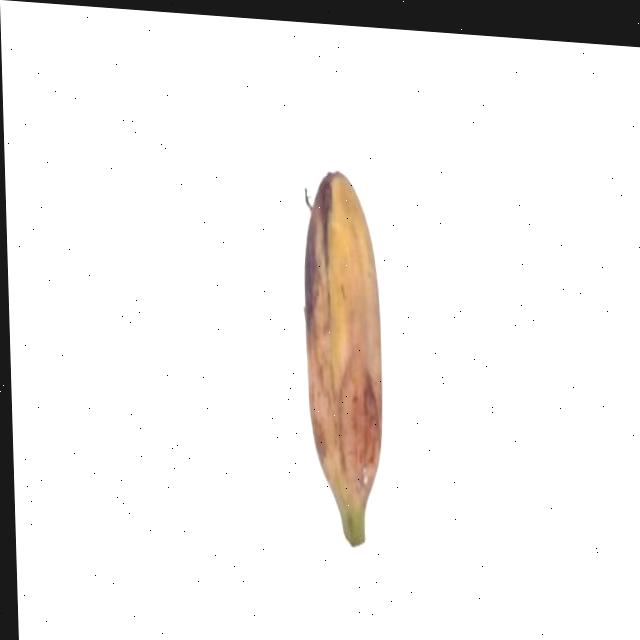banana: (292, 164, 397, 554)
